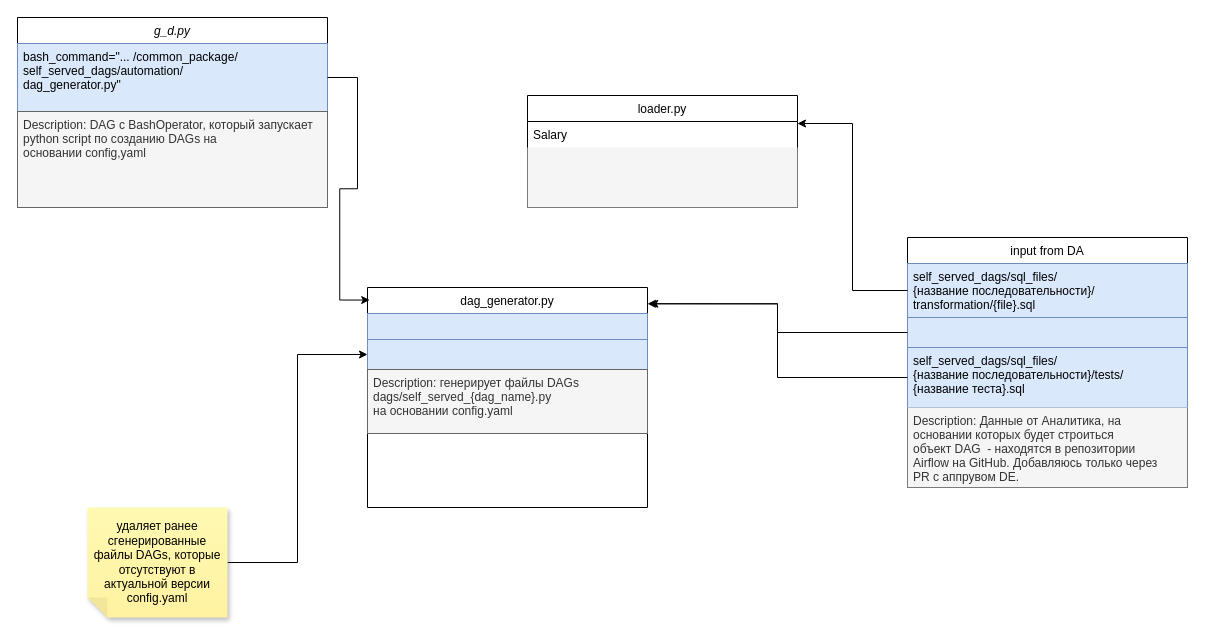
This 1205x642 diagram has some shape labels left out. Here are the shapes that lost their labels. From the top down, the centre of each, then its label:
the point at 662,177: Description: Запускается
the point at 507,326: get_dag_file()
the point at 1047,332: self_served_dags/config.yaml
the point at 507,354: del_not_in_config_dags()
